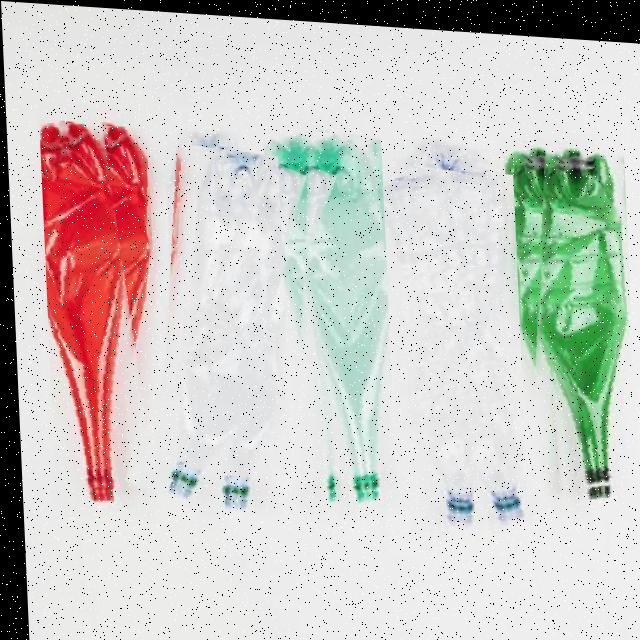litter: (140, 138, 288, 511), (509, 120, 635, 518), (393, 160, 524, 529), (274, 124, 392, 516), (37, 118, 154, 511)
